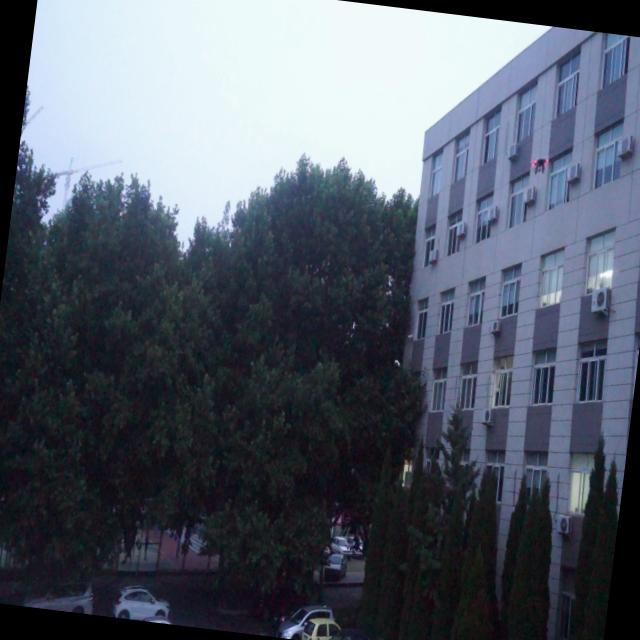drone: (529, 150, 551, 177)
